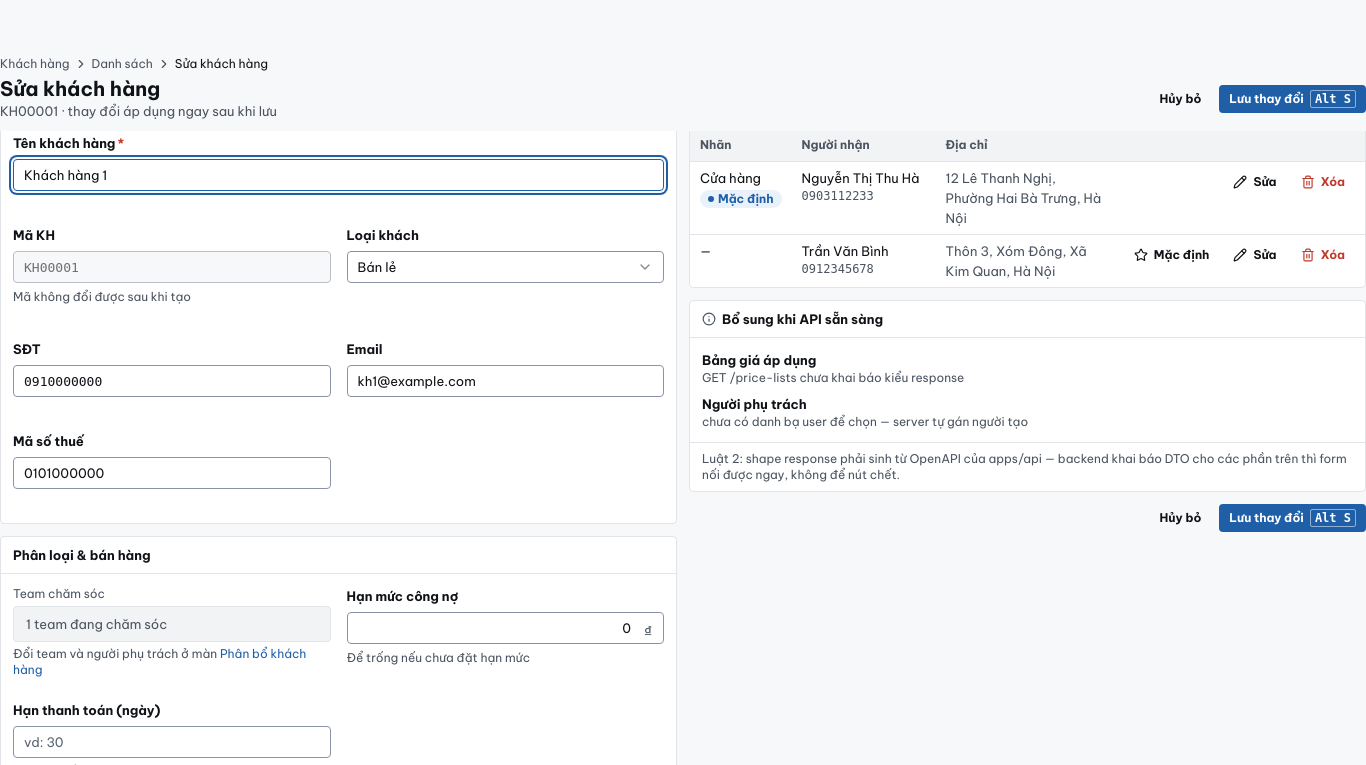
Test: CustomerFormScreen — địa chỉ giao hàng (POST/PATCH/DELETE /customers/{id}/addresses) › Xóa địa chỉ: 409 ADDRESS_IN_USE → hộp xác nhận giữ mở + nói rõ số đơn; 204 → đóng
This screenshot has width=1366, height=765.
Expected: the text "Trần Văn Bình" is shown, [802,242,889,258]
Click the button "Xóa" in the row of "Trần Văn Bình" at (1323, 254), box [1290,240,1355,268]
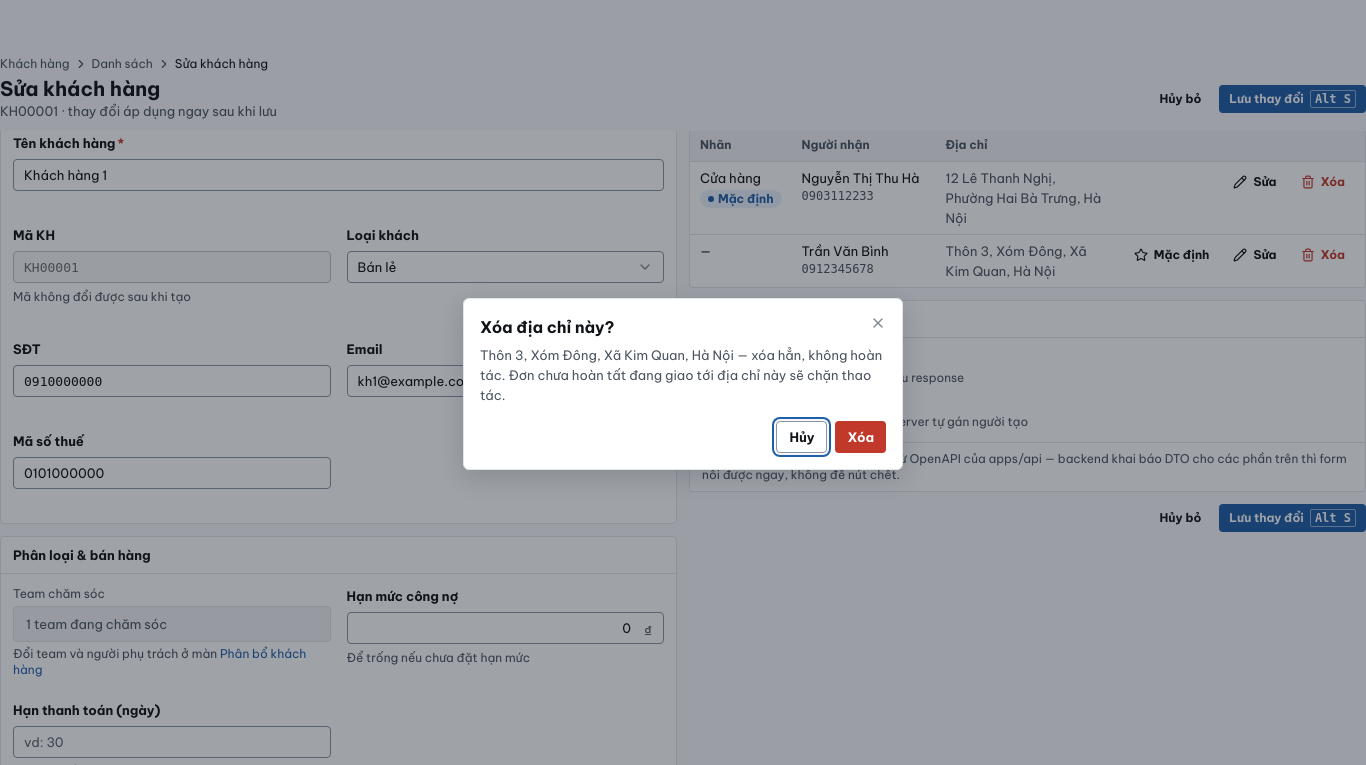
Expected: the dialog "Xóa địa chỉ này?" is shown, [463,298,903,470]
Click the button "Xóa" at (861, 437), box [836,421,886,453]
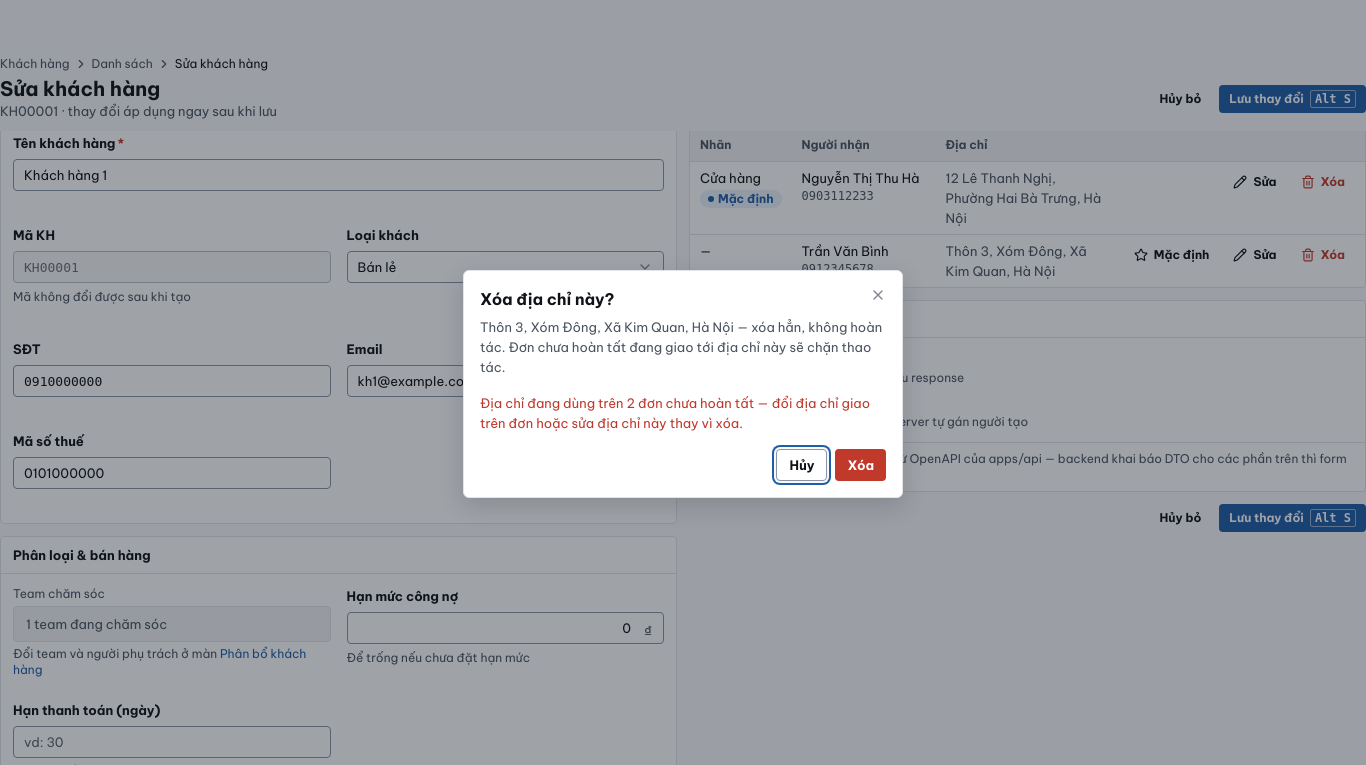
Expected: the dialog "Xóa địa chỉ này?" is shown, [463,270,903,498]
Expected: the message shows "2 đơn chưa hoàn tất", [480,395,870,431]
Click the button "Xóa" at (861, 465), box [836,449,886,481]
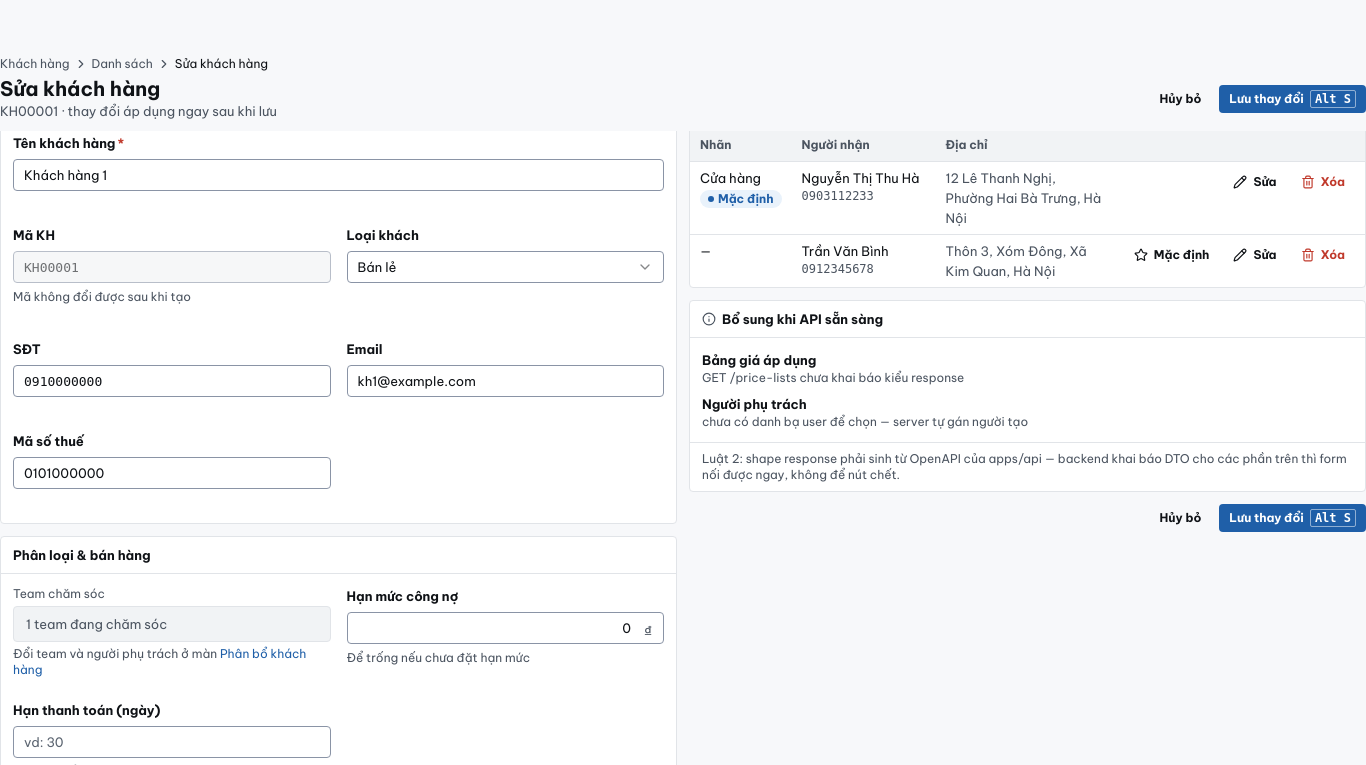
Expected: the heading "Xóa địa chỉ này?" is gone
